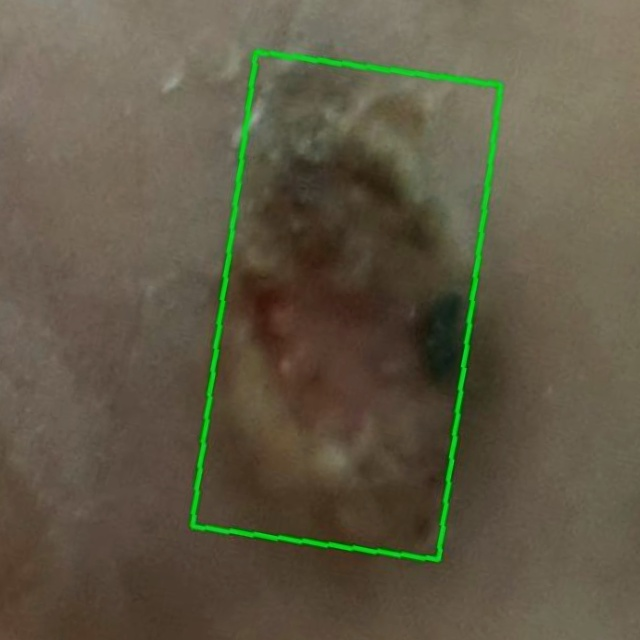Eczema: (191, 52, 500, 559)
